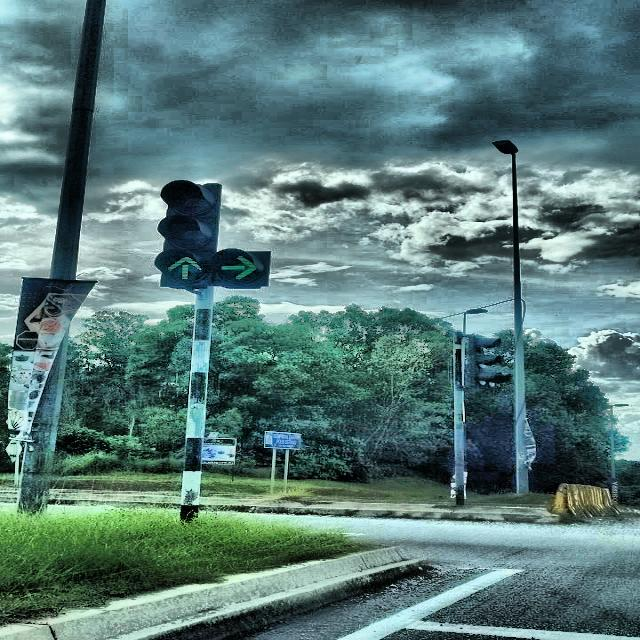green: (156, 178, 220, 288), (212, 181, 270, 287)
